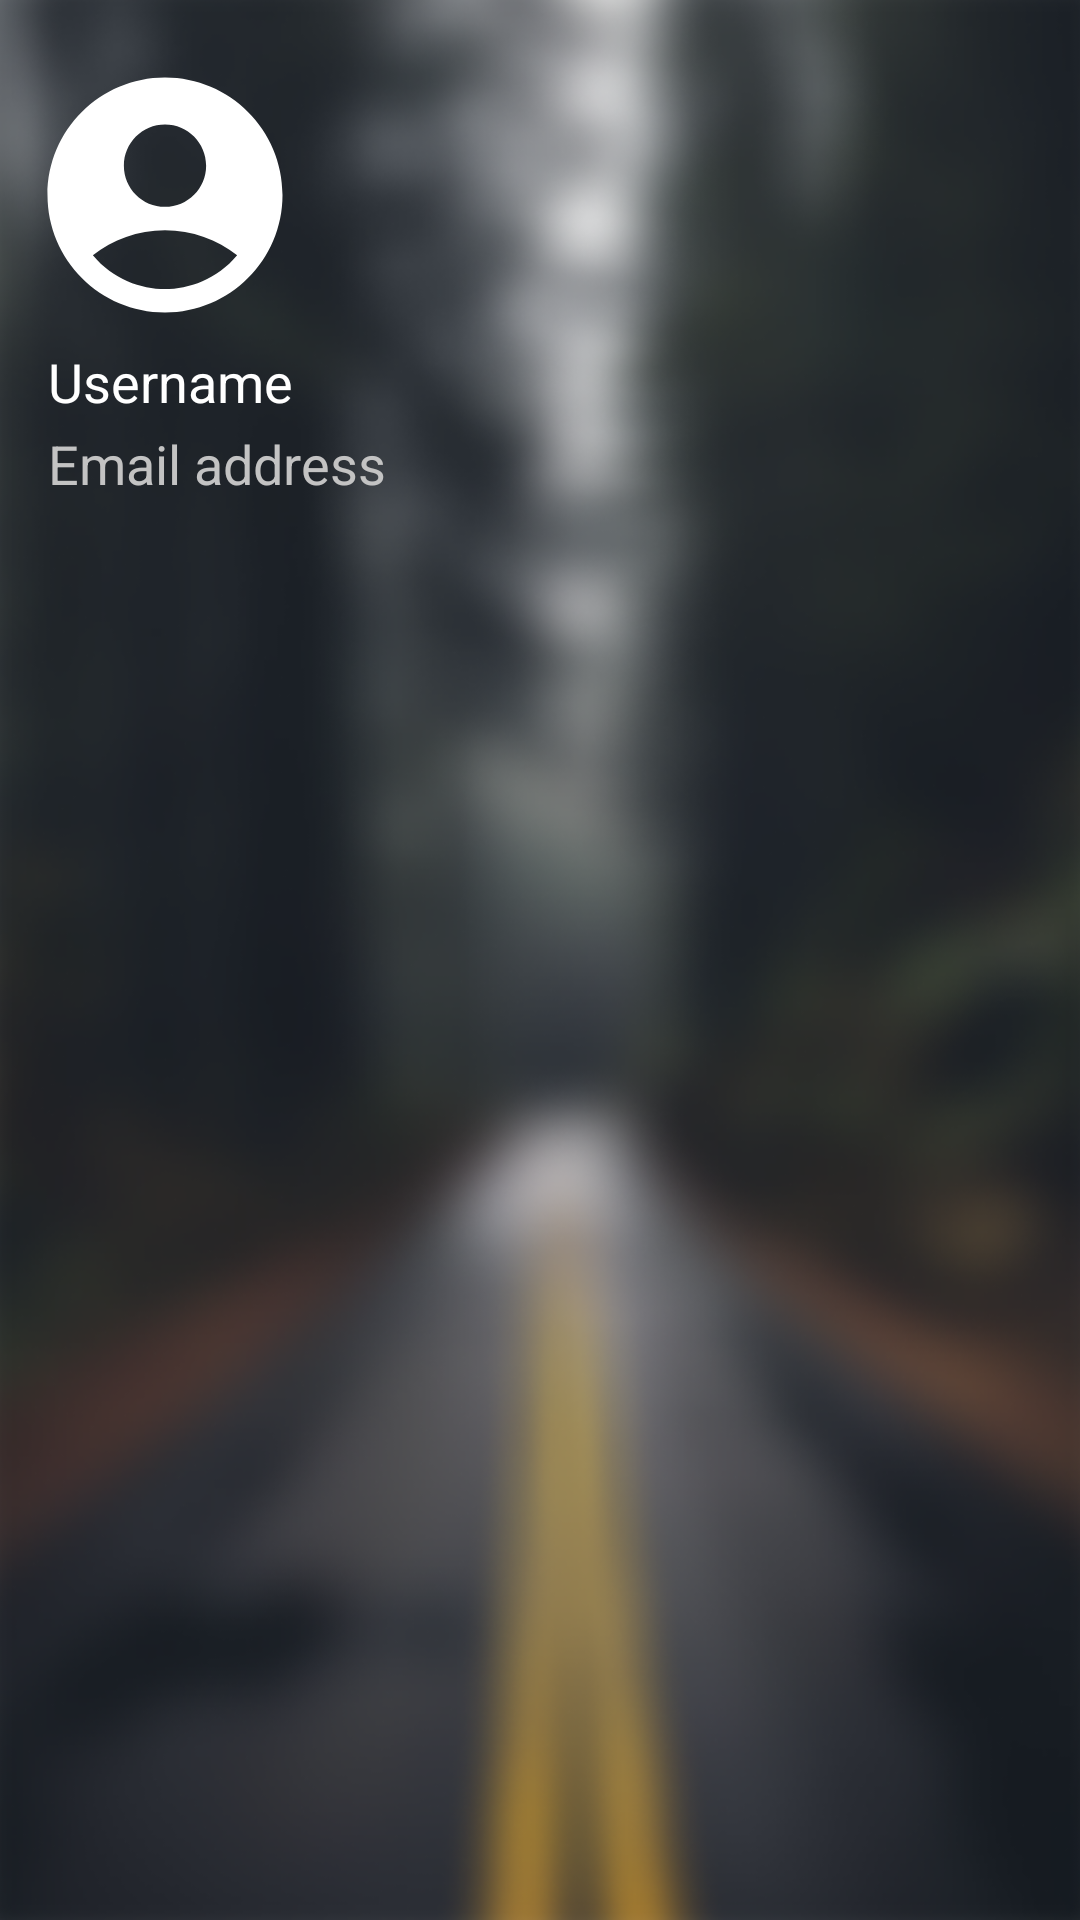

Named icons in this screenshot (1080*1920) and their bounding boxes, (x1, y1, x2, y2):
account circle: (15, 45, 283, 313)
